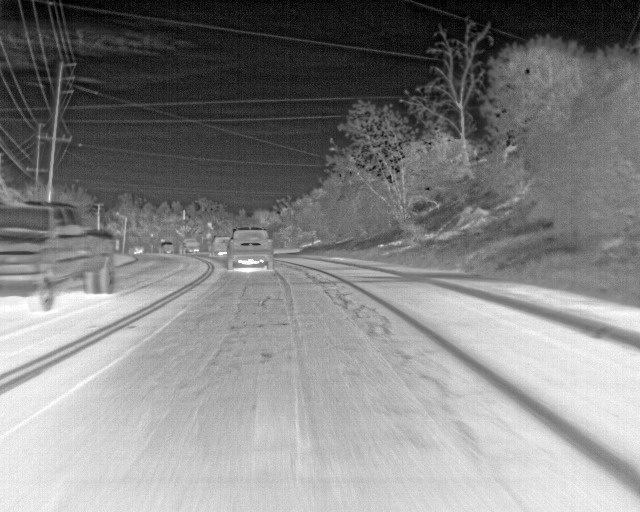vehicle: (1, 202, 116, 311), (230, 226, 276, 271)
